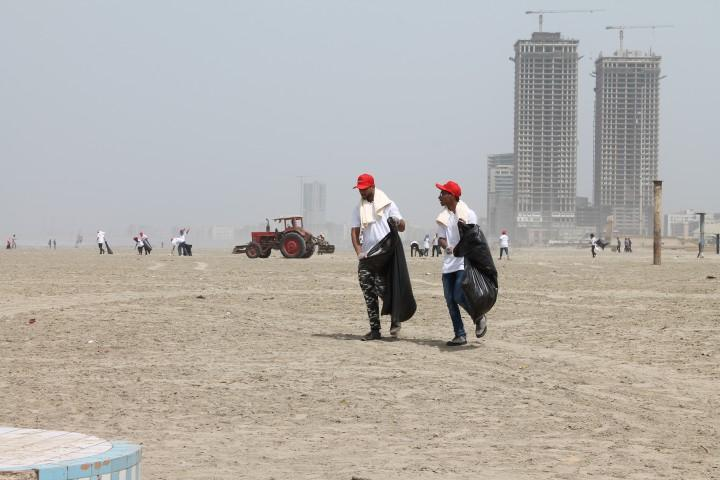airplane: (169, 225, 191, 255)
backpack: (362, 183, 414, 337), (431, 180, 477, 318), (443, 195, 488, 302), (351, 176, 402, 265), (454, 222, 496, 323), (358, 223, 402, 316), (381, 224, 418, 322), (246, 219, 334, 259), (430, 184, 469, 265), (453, 216, 495, 271), (358, 202, 396, 260), (465, 224, 497, 291), (437, 191, 475, 240), (437, 209, 477, 254), (362, 224, 394, 279), (460, 266, 491, 313), (277, 230, 326, 258), (433, 207, 462, 249), (440, 203, 480, 231), (459, 281, 486, 320), (453, 202, 477, 242), (454, 219, 483, 252), (362, 229, 390, 257), (459, 268, 478, 309), (280, 232, 304, 256), (456, 218, 479, 241), (451, 214, 467, 246), (455, 201, 475, 225), (97, 229, 114, 255), (133, 234, 151, 255), (408, 240, 421, 257)
baseball glove: (408, 240, 421, 257)
bench: (0, 425, 146, 476), (239, 216, 334, 258), (525, 224, 565, 246), (592, 235, 628, 257), (169, 226, 189, 255), (585, 234, 609, 256), (408, 236, 430, 257), (132, 236, 152, 255), (173, 236, 191, 255), (526, 228, 546, 245), (230, 241, 253, 254), (546, 235, 573, 246), (615, 236, 631, 253), (611, 234, 625, 253)
bicycle: (169, 232, 190, 255), (408, 236, 430, 257), (132, 236, 152, 255), (587, 232, 601, 258), (618, 236, 632, 253), (408, 240, 421, 257)
bird: (170, 226, 191, 255), (590, 235, 608, 256), (137, 231, 152, 255), (408, 240, 421, 257), (4, 232, 16, 249)
boat: (0, 425, 145, 475), (454, 222, 496, 323), (169, 225, 191, 255), (230, 241, 253, 254)
book: (362, 229, 390, 257)
bus: (241, 213, 335, 258)
car: (231, 176, 431, 268), (454, 222, 496, 323), (242, 214, 334, 259), (261, 229, 330, 257), (230, 234, 272, 257), (526, 225, 568, 246), (259, 216, 303, 235), (169, 226, 190, 255), (546, 228, 578, 246), (230, 241, 253, 254), (546, 235, 573, 246)
cat: (168, 226, 188, 255)
cell phone: (364, 231, 390, 257)
chair: (454, 222, 496, 323), (169, 226, 190, 255), (408, 236, 430, 257), (97, 229, 114, 255), (136, 234, 152, 255), (428, 233, 439, 256), (408, 240, 421, 257), (421, 233, 430, 256), (620, 235, 631, 253)
cow: (246, 219, 334, 259), (169, 226, 189, 255), (590, 235, 608, 256), (166, 229, 180, 255), (173, 236, 191, 255), (136, 234, 152, 255), (167, 239, 186, 256)
dining table: (0, 425, 146, 476)
dog: (454, 222, 496, 323), (246, 219, 334, 259), (169, 232, 190, 255), (408, 236, 430, 257), (95, 228, 111, 255), (589, 233, 605, 257), (133, 234, 151, 255), (421, 233, 434, 257), (426, 234, 440, 256), (174, 242, 192, 256), (408, 240, 421, 257)
elephant: (169, 232, 190, 255), (174, 242, 192, 256)
fire hydrant: (620, 235, 631, 253)
giraffe: (168, 226, 188, 255)
handbag: (362, 183, 414, 337), (386, 189, 429, 322), (377, 222, 419, 326), (454, 222, 496, 323), (358, 220, 402, 314), (354, 188, 400, 268), (350, 226, 412, 279), (453, 216, 495, 271), (392, 238, 419, 321), (376, 239, 404, 314), (369, 225, 401, 289), (437, 209, 477, 254), (358, 219, 396, 266), (361, 194, 394, 246), (385, 270, 417, 322), (431, 206, 460, 258), (460, 267, 494, 311), (360, 209, 387, 256), (453, 220, 484, 256), (426, 209, 448, 257), (357, 201, 377, 250), (457, 282, 482, 320), (278, 230, 309, 258), (455, 211, 479, 246), (363, 229, 391, 257), (459, 268, 478, 309), (455, 201, 476, 233), (451, 218, 468, 253), (455, 219, 471, 244), (313, 234, 333, 254), (360, 202, 373, 226), (408, 240, 421, 257)
horse: (454, 222, 496, 323), (246, 219, 334, 259), (275, 231, 331, 257), (150, 228, 193, 257), (168, 228, 190, 256), (589, 233, 608, 258), (178, 226, 193, 256), (95, 228, 111, 255), (133, 234, 151, 255), (173, 236, 191, 255), (168, 234, 183, 256), (130, 234, 144, 257), (587, 231, 598, 259), (408, 240, 421, 257), (3, 232, 15, 250), (421, 233, 430, 256), (620, 235, 631, 253)
kite: (454, 222, 496, 323), (243, 214, 334, 259), (170, 226, 191, 255), (96, 228, 113, 254), (589, 233, 605, 257), (133, 234, 151, 255), (587, 231, 598, 259), (4, 232, 16, 249)
motorcycle: (242, 214, 335, 258), (261, 229, 330, 257), (279, 229, 309, 258), (169, 226, 189, 255), (588, 232, 606, 259), (95, 228, 111, 255), (133, 234, 151, 255)
person: (227, 178, 538, 326), (262, 182, 413, 317), (421, 178, 517, 332), (360, 176, 441, 347), (348, 173, 408, 340), (429, 180, 478, 345), (442, 198, 496, 342), (415, 182, 462, 330), (352, 219, 396, 330), (348, 174, 404, 256), (458, 227, 500, 334), (432, 180, 477, 270), (438, 235, 471, 346), (381, 224, 418, 322), (246, 219, 334, 259), (440, 202, 474, 301), (351, 201, 395, 276), (454, 216, 494, 284), (275, 231, 331, 257), (434, 207, 460, 250), (450, 188, 475, 227), (491, 227, 514, 262), (455, 201, 477, 237), (586, 232, 617, 255), (429, 219, 448, 256), (280, 232, 304, 257), (582, 231, 600, 262), (169, 226, 188, 255), (578, 233, 607, 252), (128, 229, 153, 250), (123, 236, 150, 255), (95, 228, 111, 255), (415, 233, 433, 257), (496, 229, 509, 260), (501, 231, 515, 259), (422, 231, 437, 257), (589, 233, 605, 257), (101, 230, 117, 254), (167, 225, 188, 243), (166, 229, 180, 255), (591, 231, 610, 250), (176, 232, 191, 256), (594, 236, 612, 255), (135, 231, 149, 255), (181, 226, 193, 254), (411, 237, 427, 257), (139, 233, 154, 254), (170, 240, 191, 255), (587, 231, 598, 259), (93, 227, 105, 252), (583, 231, 595, 255), (127, 229, 139, 253), (131, 233, 144, 255), (432, 233, 444, 256), (606, 232, 618, 254), (428, 233, 439, 256), (436, 234, 448, 255), (408, 241, 422, 257), (611, 233, 622, 253), (421, 233, 430, 257), (620, 235, 632, 253), (4, 232, 16, 249), (73, 230, 83, 249), (695, 236, 703, 259)
potted plant: (169, 226, 190, 255)
sheep: (169, 232, 190, 255), (136, 234, 152, 255), (174, 242, 192, 256)
skateboard: (455, 222, 497, 328), (460, 265, 493, 319), (96, 228, 113, 254), (133, 234, 151, 255), (474, 314, 486, 337), (408, 240, 421, 257)
skis: (454, 222, 496, 323)
snowboard: (436, 184, 492, 342), (454, 223, 496, 322), (459, 257, 494, 315), (133, 234, 151, 255)
suitcase: (365, 190, 413, 336), (357, 222, 401, 324), (454, 222, 496, 323), (381, 224, 418, 322), (458, 258, 498, 314), (393, 260, 418, 321), (280, 232, 304, 256)
surfboard: (436, 184, 492, 342), (454, 223, 497, 322), (432, 204, 484, 282), (455, 221, 494, 276), (458, 258, 495, 311), (168, 227, 191, 250), (97, 229, 114, 255), (586, 236, 608, 255), (133, 234, 151, 255), (587, 232, 601, 258)
tie: (363, 202, 389, 251), (364, 222, 391, 257), (357, 201, 376, 248), (372, 202, 389, 239), (361, 202, 379, 233), (360, 202, 373, 226), (364, 200, 376, 224)
train: (168, 226, 190, 255)
truck: (231, 176, 431, 268), (454, 222, 496, 323), (239, 216, 334, 258), (238, 229, 309, 258), (246, 213, 309, 244), (231, 232, 274, 257), (258, 216, 302, 234), (168, 226, 190, 255), (230, 241, 253, 254)
tv: (454, 222, 496, 323)
umbrella: (454, 222, 496, 323), (455, 221, 494, 276), (169, 226, 189, 255)
